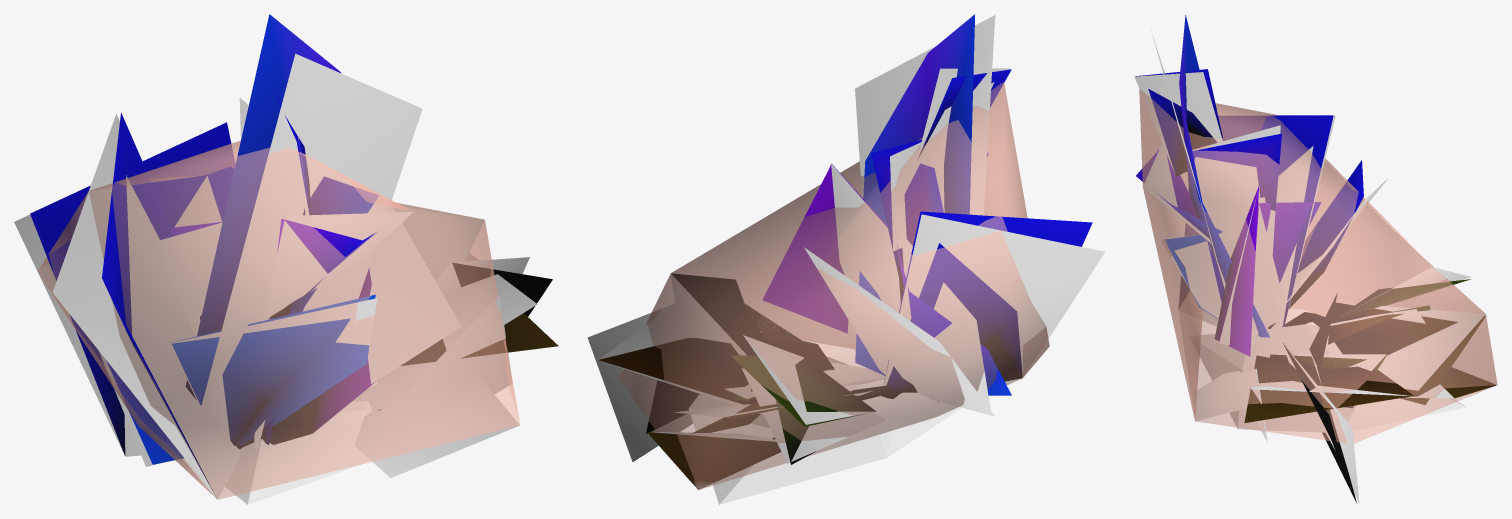
File: Juniper_bush_small_dry_03.dae
3 renders of one model, left to right at view 1: azimuth 30°, elevation 25°; view 2: azimuth 150°, elevation 25°; view 3: azimuth 270°, elevation 25°, orthographic. The views are drawn at different scales.
Parts seen in each view (by area): view 1: Colmesh-1, Juniper_small_dry_03_a120, Juniper_small_dry_03_a250; view 2: Colmesh-1, Juniper_small_dry_03_a120, Juniper_small_dry_03_a250; view 3: Colmesh-1, Juniper_small_dry_03_a250, Juniper_small_dry_03_a120.
Part boxes in pixels (x1,y1,x2,y2): Colmesh-1: (38,140,519,504); Juniper_small_dry_03_a120: (14,53,537,499); Juniper_small_dry_03_a250: (30,14,558,497); Colmesh-1: (619,82,1049,504); Juniper_small_dry_03_a120: (587,15,1104,489); Juniper_small_dry_03_a250: (598,14,1092,488); Colmesh-1: (1139,89,1497,443); Juniper_small_dry_03_a250: (1136,15,1496,503); Juniper_small_dry_03_a120: (1134,30,1496,502).
Size of the model in its own units: 3.05 by 2.44 by 2.85.
